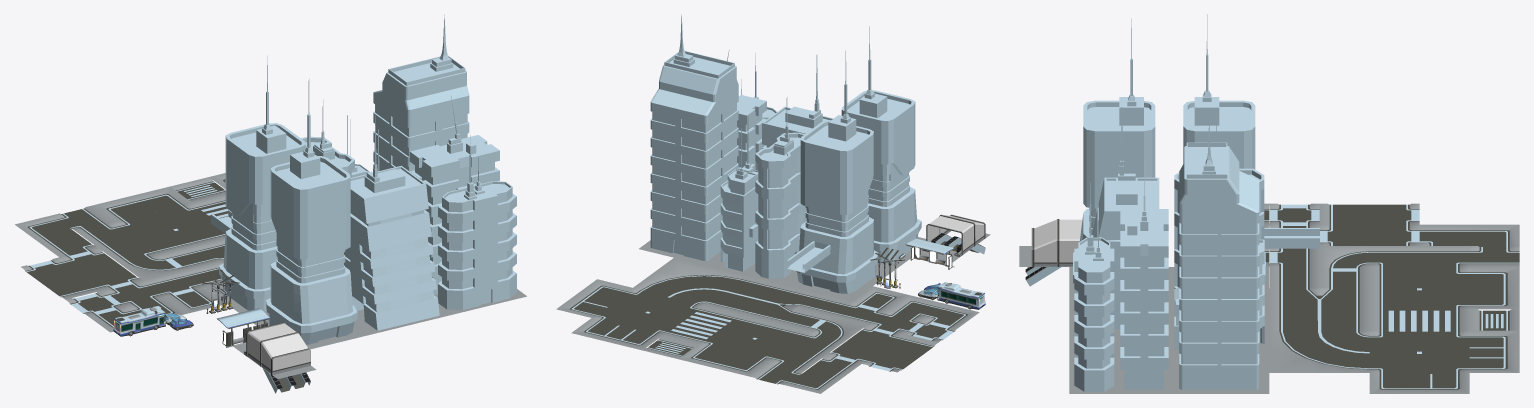
File: Cenario (7).fbx
3 renders of one model, left to right at view 1: azimuth 30°, elevation 25°; view 2: azimuth 150°, elevation 25°; view 3: azimuth 270°, elevation 25°, orthographic. The views are drawn at different scales.
Visible parts, largest first — view 1: Building_07, Building_06, Building_07.006, Building_02, Building_03, Building_01, Metro_Entrance, T_Intersection_Large, Parking_03, Intersection_Divider_4, T_Intersection_Large.021, T_Intersection_Divider.002 (+16 smaller); view 2: Building_03, Building_07.006, Building_07, Building_09, Building_10, Curve_Large, T_Intersection_Large, Intersection_Large, Metro_Entrance, Building_01, Building_06, Parking_01 (+22 smaller); view 3: Building_03, Building_01, Building_07, Building_02, Building_07.006, Intersection_Large, T_Intersection_Large, Curve_Large, Building_06, Metro_Entrance, T_Intersection_Divider, T_Intersection_Large.021 (+18 smaller).
Part boxes in pixels (bbox=[...]): Building_07: bbox=[253, 78, 371, 349]; Building_06: bbox=[344, 115, 449, 334]; Building_07.006: bbox=[205, 55, 305, 315]; Building_02: bbox=[436, 134, 526, 315]; Building_03: bbox=[373, 14, 469, 171]; Building_01: bbox=[409, 95, 499, 296]; Metro_Entrance: bbox=[233, 322, 316, 393]; T_Intersection_Large: bbox=[115, 203, 225, 254]; Parking_03: bbox=[92, 186, 191, 221]; Intersection_Divider_4: bbox=[60, 248, 142, 289]; T_Intersection_Large.021: bbox=[15, 215, 97, 257]; T_Intersection_Divider.002: bbox=[21, 257, 103, 299]; Building_03: bbox=[639, 14, 738, 266]; Building_07.006: bbox=[781, 51, 892, 300]; Building_07: bbox=[841, 26, 926, 270]; Building_09: bbox=[745, 97, 806, 283]; Building_10: bbox=[710, 128, 758, 274]; Curve_Large: bbox=[633, 258, 744, 304]; T_Intersection_Large: bbox=[699, 314, 810, 361]; Intersection_Large: bbox=[592, 288, 703, 335]; Metro_Entrance: bbox=[920, 214, 990, 262]; Building_01: bbox=[727, 50, 766, 170]; Building_06: bbox=[762, 55, 833, 148]; Parking_01: bbox=[556, 279, 632, 317]; Building_03: bbox=[1169, 115, 1269, 393]; Building_01: bbox=[1119, 162, 1169, 393]; Building_07: bbox=[1069, 18, 1169, 309]; Building_02: bbox=[1069, 182, 1119, 393]; Building_07.006: bbox=[1169, 14, 1319, 309]; Intersection_Large: bbox=[1369, 330, 1469, 373]; T_Intersection_Large: bbox=[1369, 267, 1469, 310]; Curve_Large: bbox=[1269, 330, 1369, 372]; Building_06: bbox=[1069, 107, 1169, 351]; Metro_Entrance: bbox=[1019, 219, 1082, 286]; T_Intersection_Divider: bbox=[1369, 246, 1469, 268]; T_Intersection_Large.021: bbox=[1419, 224, 1519, 246].
Size of the model in its own units: 180 by 200 by 129.
Materials: 4 (2 with a texture image).
